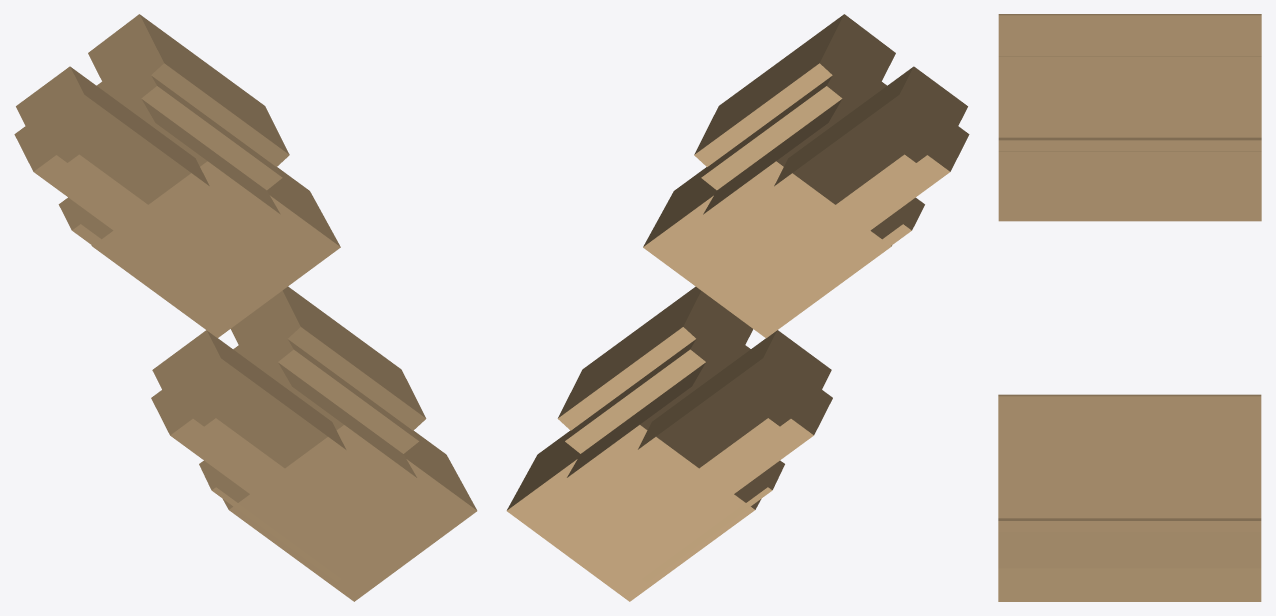
The picture shows the model from 3 angles, left to right: view 1: azimuth 30°, elevation 25°; view 2: azimuth 150°, elevation 25°; view 3: azimuth 270°, elevation 25°; orthographic projection. The views are drawn at different scales.
Visible parts, largest first — view 1: 0_1_0_2_2_1_1_2; view 2: 0_1_0_2_2_1_1_2; view 3: 0_1_0_2_2_1_1_2.
Boxes of the visible parts, bbox=[...] form: 0_1_0_2_2_1_1_2: bbox=[14, 14, 477, 601]; 0_1_0_2_2_1_1_2: bbox=[506, 14, 969, 601]; 0_1_0_2_2_1_1_2: bbox=[998, 14, 1261, 601].
Bounding box in the file's own units: 41.89 × 61.4 × 27.03.
